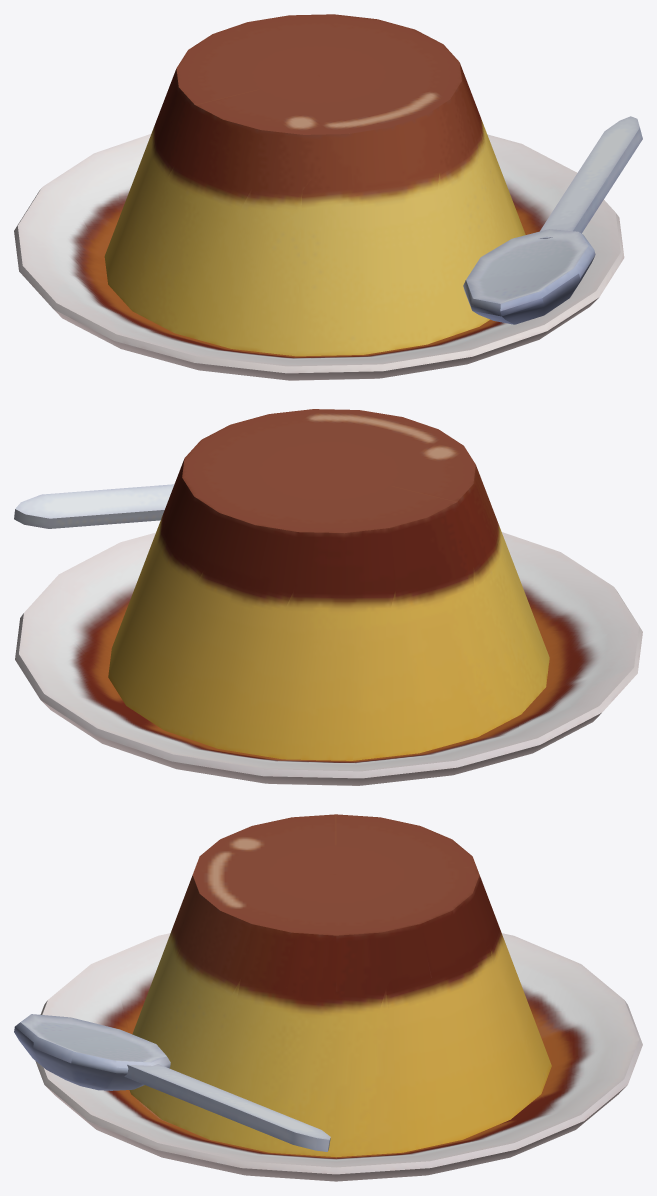
File: food_purin.glb
3 renders of one model, top to bottom at view 1: azimuth 30°, elevation 25°; view 2: azimuth 150°, elevation 25°; view 3: azimuth 270°, elevation 25°, orthographic. The views are drawn at different scales.
Parts seen in each view (by area): view 1: mesh; view 2: mesh; view 3: mesh.
Boxes of the visible parts, x1,y1,x2,y2 form: mesh: [14, 14, 642, 380]; mesh: [14, 409, 642, 785]; mesh: [14, 814, 642, 1181].
Size of the model in its own units: 0.1556 by 0.05 by 0.147.
1 material, 1 textured.
